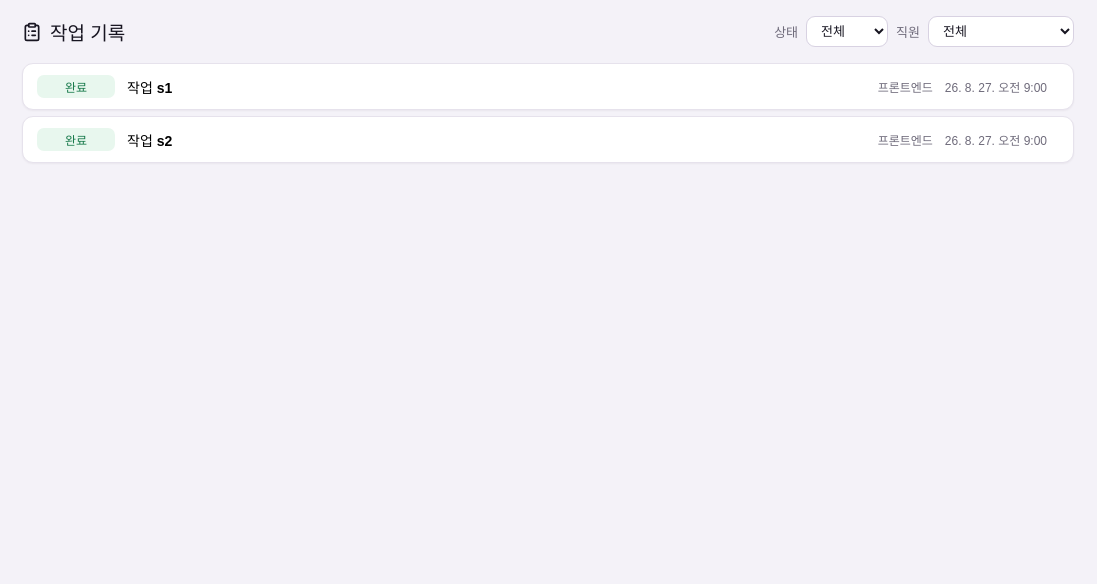
Test: 별도 확인이 필요한 파일과 변경 없음 결과를 구분해 보여준다
The image size is (1097, 584).
Click the button "작업 s1": coordinates (76, 86) [22,63,1074,110]
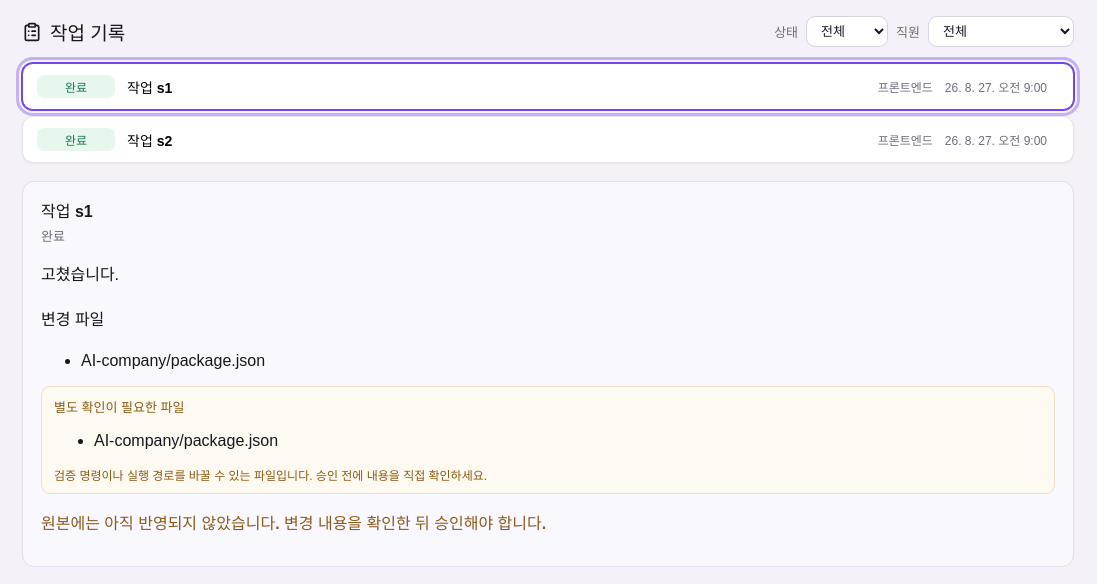
Expected: the heading "별도 확인이 필요한 파일" is shown, [54,400,184,414]
Expected: the text "검증 명령이나 실행 경로를 바꿀 수 있는 파일입니다. 승인 전에 내용을 직접 확인하세요." is shown, [54,468,487,482]
Click the button "작업 s2": coordinates (76, 140) [22,116,1074,163]
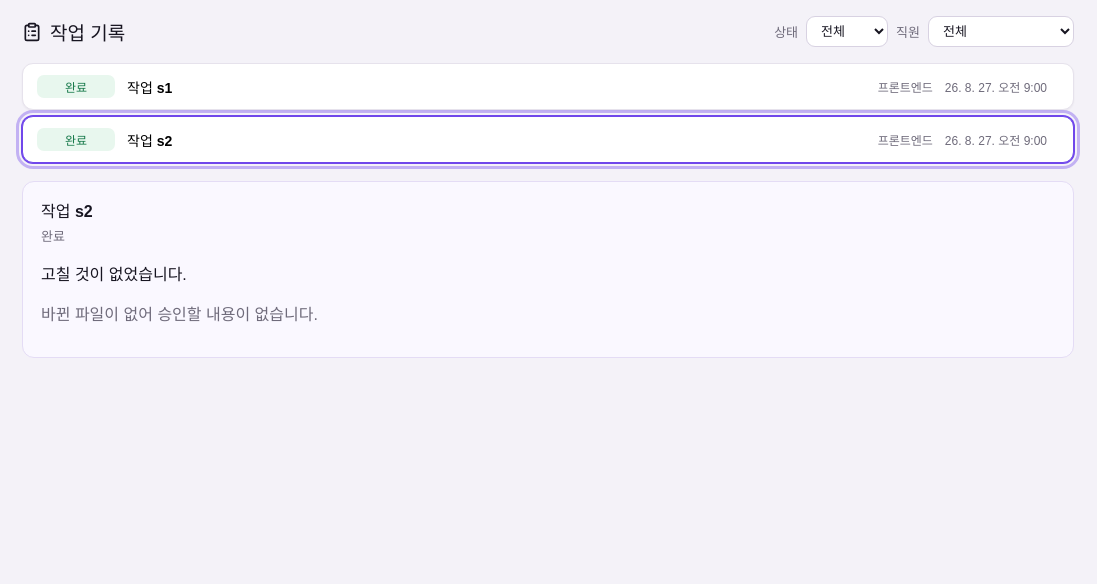
Expected: the text "바뀐 파일이 없어 승인할 내용이 없습니다." is shown, [41,306,318,323]
Expected: the heading "별도 확인이 필요한 파일" is gone
